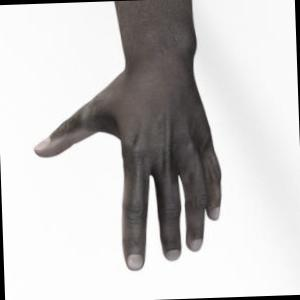paper: (35, 0, 220, 270)
